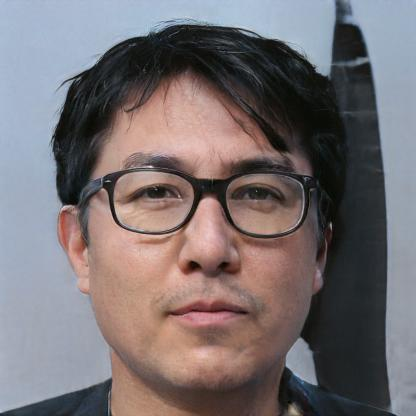glasses: (100, 162, 312, 245)
